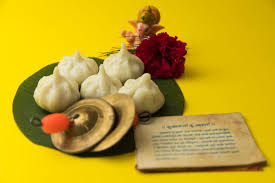modak: (120, 72, 175, 111), (105, 44, 150, 79), (35, 69, 78, 105), (84, 67, 124, 99), (60, 54, 102, 80)
